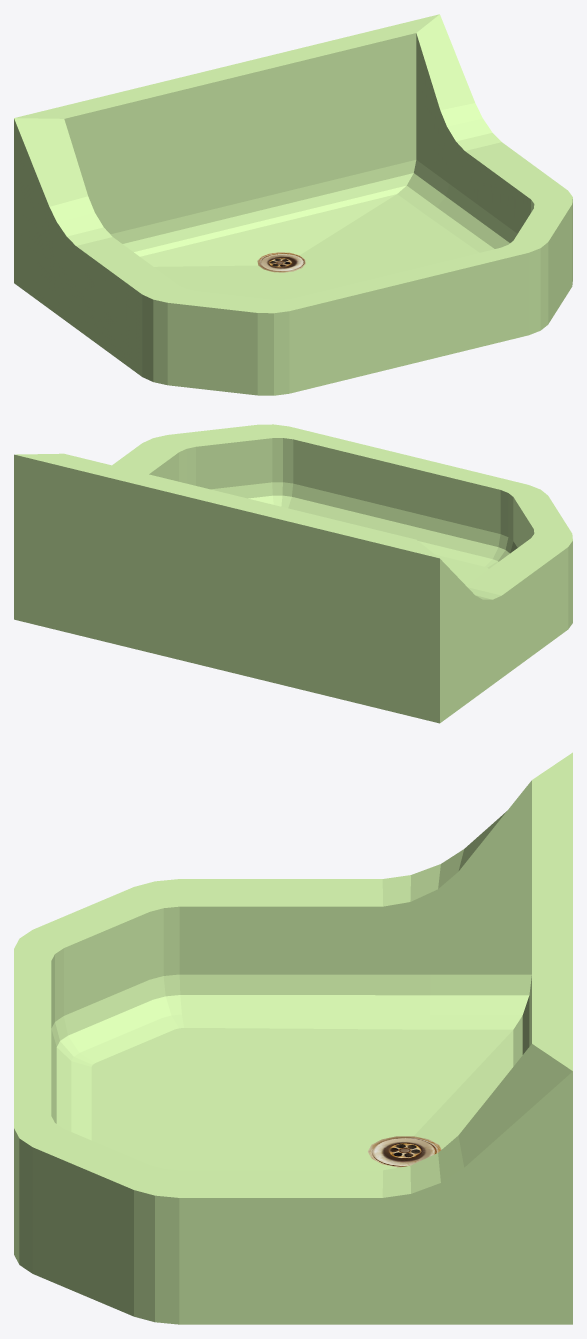
Rendered from Pia.fbx.
3 views of the same model, one above another, from view 1: azimuth 30°, elevation 25°; view 2: azimuth 150°, elevation 25°; view 3: azimuth 270°, elevation 25° (orthographic). The views are drawn at different scales.
Parts seen in each view (by area): view 1: Cube.058; view 2: Cube.058; view 3: Cube.058.
Part boxes in pixels (left/top/right/bottom): Cube.058: left=14, top=14, right=572, bottom=395; Cube.058: left=14, top=424, right=572, bottom=723; Cube.058: left=14, top=752, right=572, bottom=1324.
Size of the model in its own units: 270 by 101 by 200.
